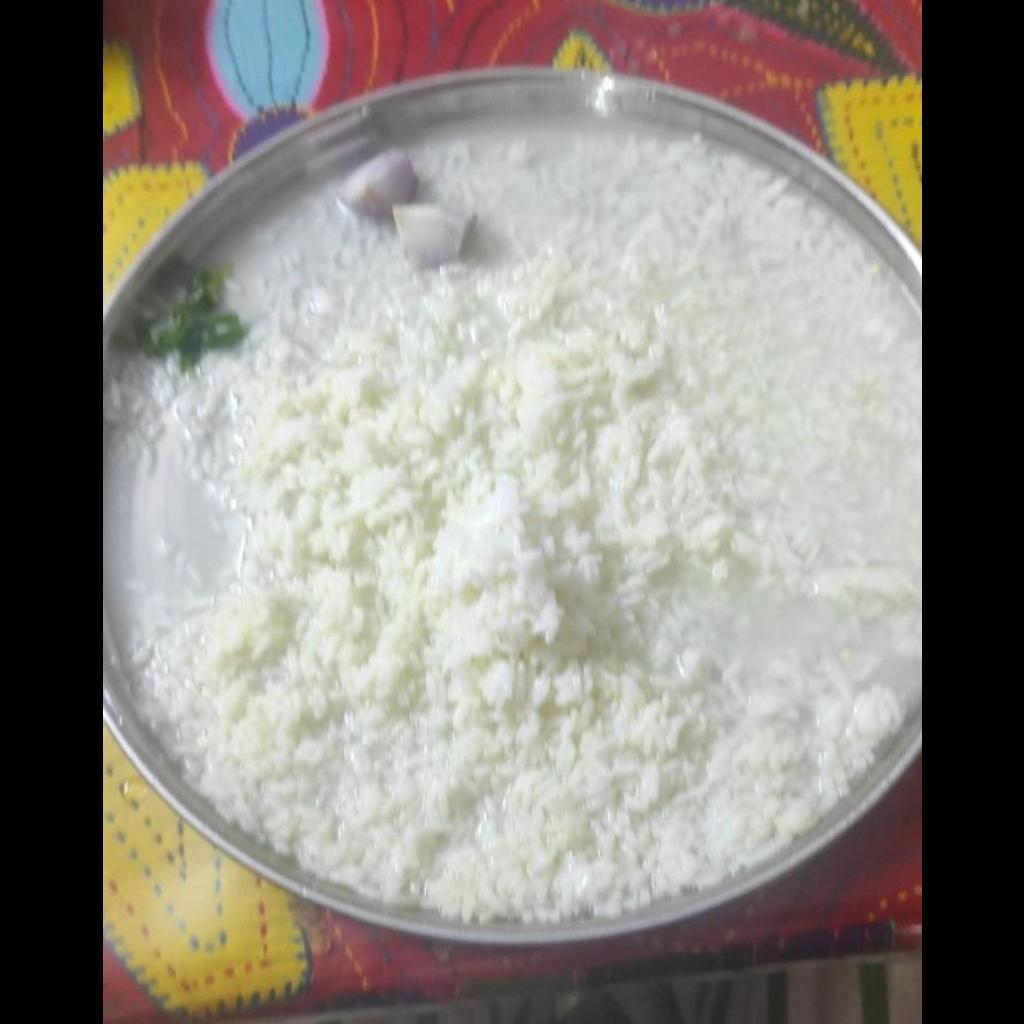rice: (119, 132, 920, 920)
